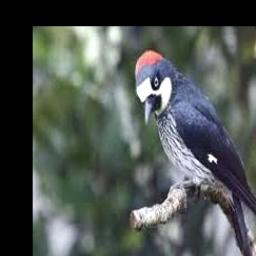Woodpecker: (136, 47, 256, 256)
